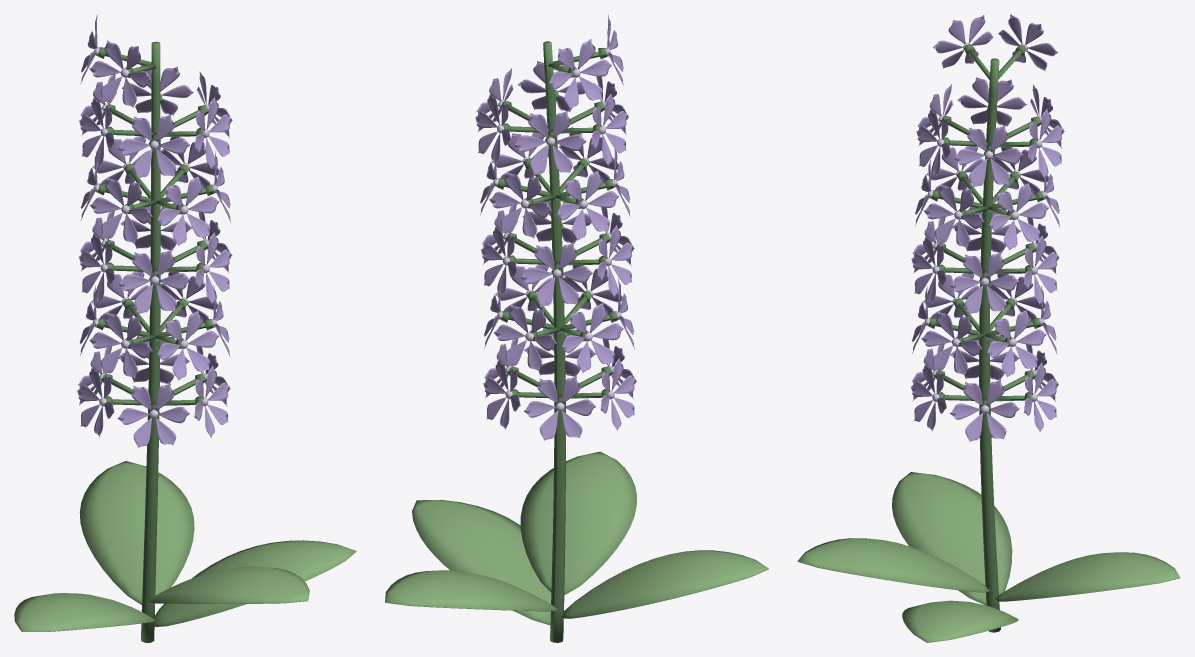
The model's file is hyacinth-epic-v2.glb.
3 renders of one model, left to right at view 1: azimuth 30°, elevation 25°; view 2: azimuth 150°, elevation 25°; view 3: azimuth 270°, elevation 25°, orthographic. The views are drawn at different scales.
Visible parts, largest first — view 1: hyacinth-epic-v2-petal, hyacinth-epic-v2-leaf, hyacinth-epic-v2-stem, hyacinth-epic-v2-center; view 2: hyacinth-epic-v2-petal, hyacinth-epic-v2-leaf, hyacinth-epic-v2-stem, hyacinth-epic-v2-center; view 3: hyacinth-epic-v2-petal, hyacinth-epic-v2-leaf, hyacinth-epic-v2-stem, hyacinth-epic-v2-center.
Boxes of the visible parts, x1,y1,x2,y2 form: hyacinth-epic-v2-petal: [77, 14, 232, 447]; hyacinth-epic-v2-leaf: [14, 461, 356, 631]; hyacinth-epic-v2-stem: [96, 41, 214, 642]; hyacinth-epic-v2-center: [92, 47, 217, 418]; hyacinth-epic-v2-petal: [475, 14, 636, 440]; hyacinth-epic-v2-leaf: [385, 451, 768, 625]; hyacinth-epic-v2-stem: [496, 41, 617, 642]; hyacinth-epic-v2-center: [493, 47, 621, 411]; hyacinth-epic-v2-petal: [911, 14, 1064, 441]; hyacinth-epic-v2-leaf: [797, 472, 1180, 642]; hyacinth-epic-v2-stem: [928, 44, 1044, 632]; hyacinth-epic-v2-center: [924, 43, 1047, 413].
Bounding box in the file's own units: 0.9734 × 1.67 × 0.9744.
